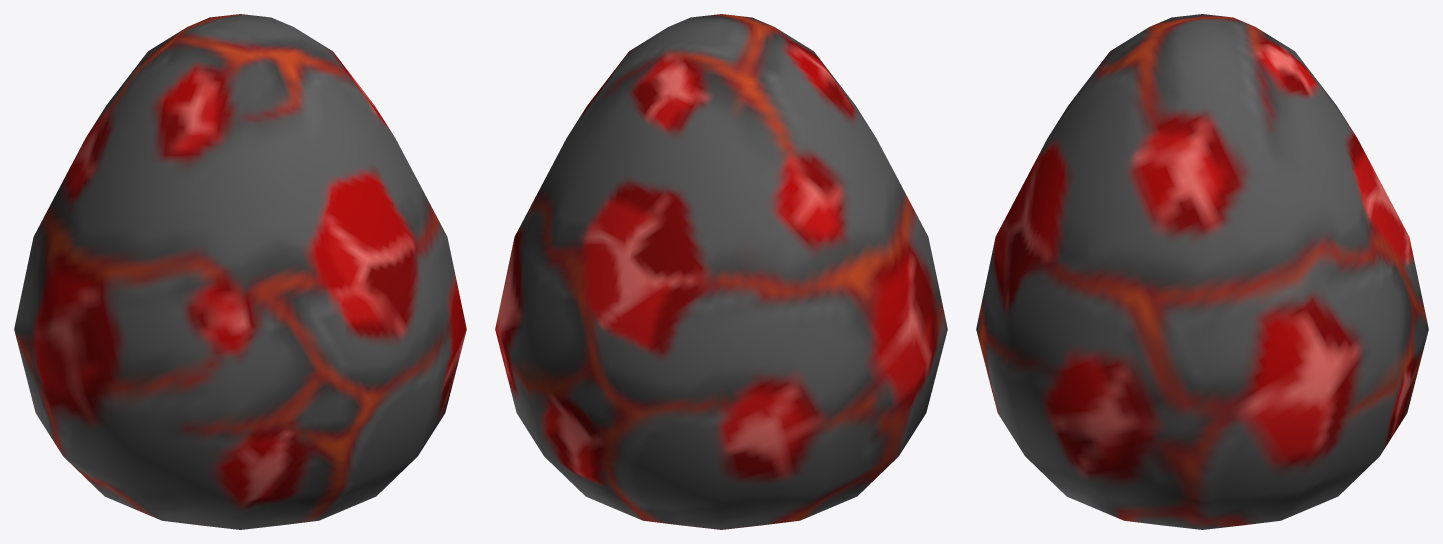
The model's file is SpawnerAgressive.fbx.
3 views of the same model, side by side, from view 1: azimuth 30°, elevation 25°; view 2: azimuth 150°, elevation 25°; view 3: azimuth 270°, elevation 25° (orthographic).
Parts seen in each view (by area): view 1: Spawner; view 2: Spawner; view 3: Spawner.
Part boxes in pixels (x1,y1,x2,y2): Spawner: [14, 14, 466, 529]; Spawner: [495, 14, 947, 529]; Spawner: [976, 14, 1428, 529].
Size of the model in its own units: 0.7514 by 0.8817 by 0.7514.
